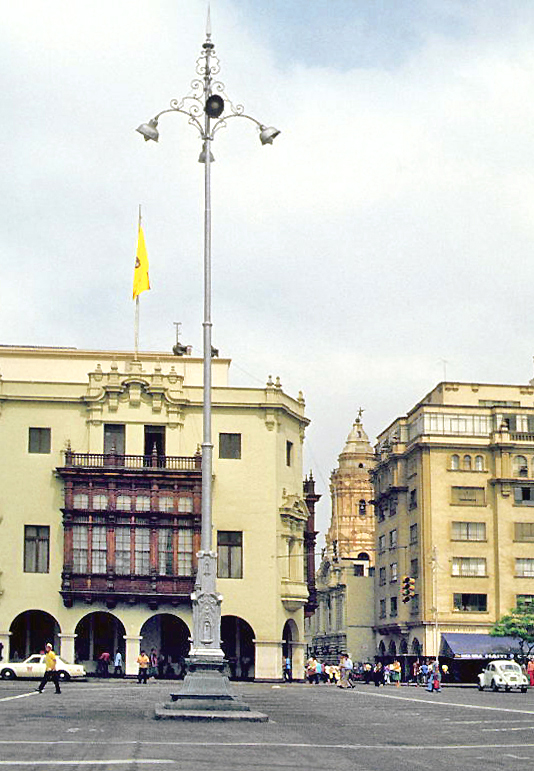fachada: (380, 396, 534, 672), (320, 406, 390, 680)
poste: (142, 20, 298, 724)
